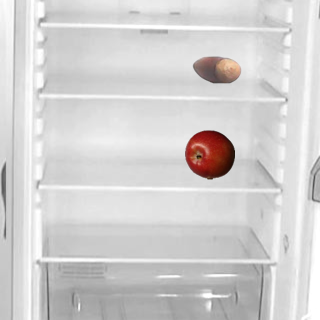Apple Braeburn: (184, 129, 234, 179)
Hazelnut: (191, 44, 241, 94)
